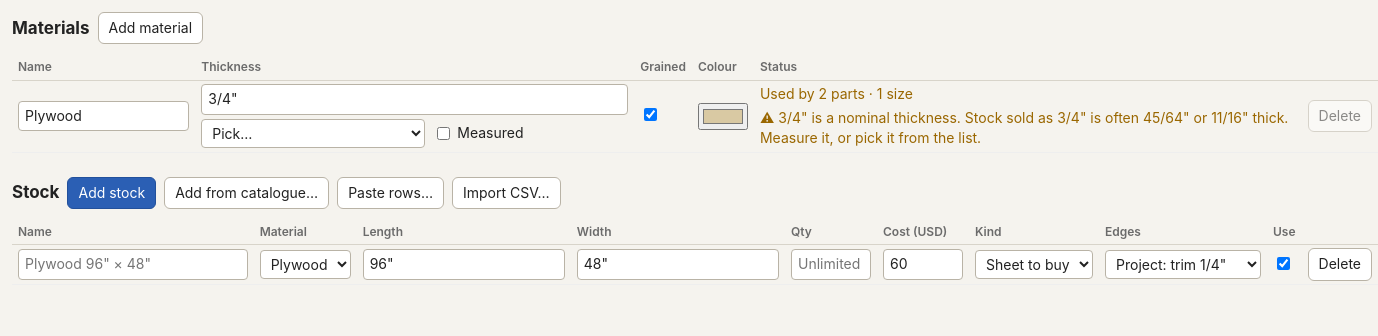
it: StockTab › shows an error when the chosen CSV file cannot be read
Click the button "Import CSV…". click: (506, 193)
box: left=452, top=177, right=561, bottom=209
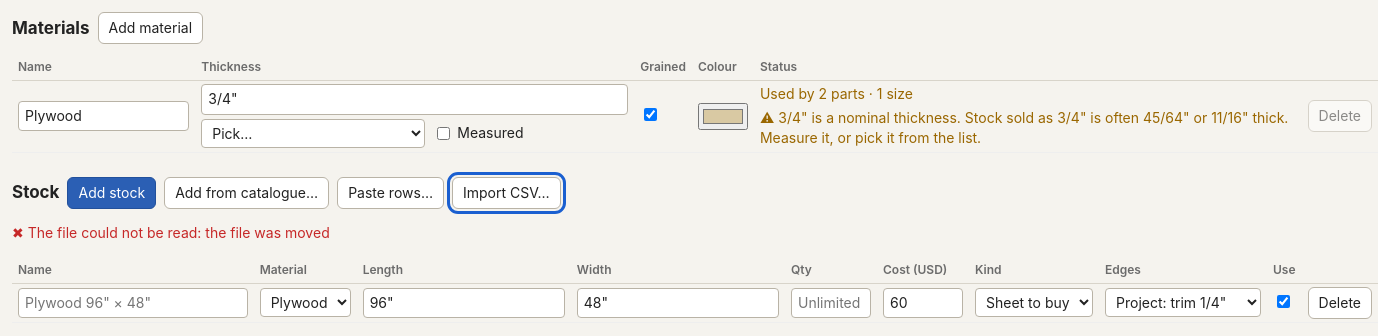
Expected: the message reads "✖ The file could not be read: the file was moved", left=12, top=224, right=330, bottom=241
